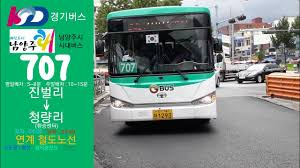bnum: (119, 62, 136, 72)
